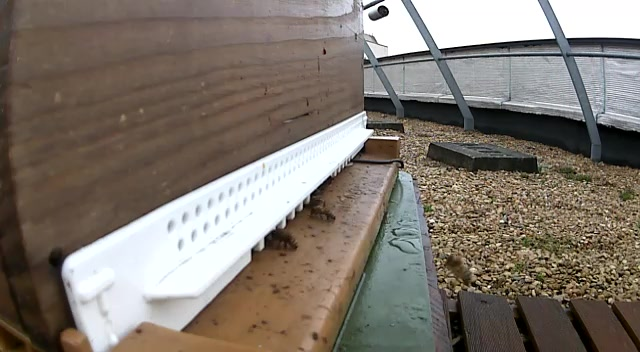bee: (444, 253, 474, 286), (267, 227, 299, 250), (307, 206, 337, 226), (305, 194, 326, 207), (322, 176, 337, 192)
